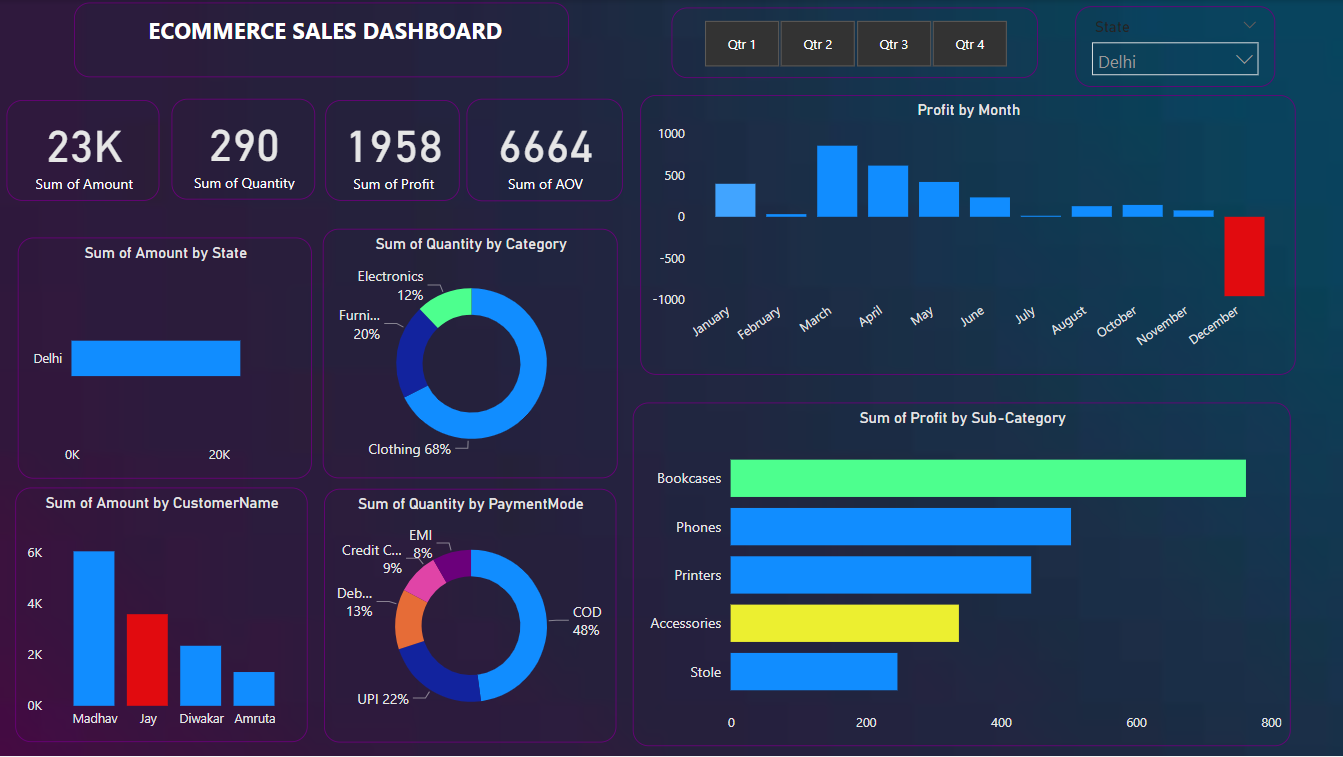

The dashboard page shown, as its layout file describes it:
{"tool":"powerbi","page":{"name":"Page 1","canvas":[1280,720],"ordinal":0},"visuals":[{"type":"textbox","box":[71.6,2.7,471.3,71.6],"z":0},{"type":"columnChart","title":"Profit by Month","fields":{"Category":["Orders.Order Date.Variation.Date Hierarchy.Month"],"Y":["Details.Profit"]},"box":[610.4,89.9,623.9,266],"z":1000},{"type":"barChart","fields":{"Category":["Details.Sub-Category"],"Y":["Details.Profit"]},"box":[603.7,382.7,626.6,326.8],"z":2000},{"type":"donutChart","fields":{"Category":["Details.Category"],"Y":["Details.Quantity"]},"box":[308.7,218.2,280.9,237.7],"z":3000},{"type":"donutChart","fields":{"Y":["Details.Quantity"],"Category":["Details.PaymentMode"]},"box":[309.8,465.4,278.2,241.7],"z":4000},{"type":"card","fields":{"Values":["Details.Amount"]},"box":[7.3,95.1,145.9,95.9],"z":5000},{"type":"card","fields":{"Values":["Details.Quantity"]},"box":[163.7,94,136.4,95.9],"z":6000},{"type":"card","fields":{"Values":["Details.AOV"]},"box":[444.6,93.5,148.6,97.2],"z":7000},{"type":"card","fields":{"Values":["Details.Profit"]},"box":[310.9,94.8,128.3,95.9],"z":8000},{"type":"barChart","fields":{"Category":["Orders.State"],"Y":["Details.Amount"]},"box":[17.6,225.5,280.4,229.3],"z":9000},{"type":"columnChart","fields":{"Category":["Orders.CustomerName"],"Y":["Details.Amount"]},"box":[16,464,278,242],"z":10000},{"type":"slicer","fields":{"Values":["Orders.State"]},"box":[1025,5.4,190.4,77],"z":11000},{"type":"slicer","fields":{"Values":["Orders.Order Date.Variation.Date Hierarchy.Quarter"]},"box":[640.3,7.1,348.9,67.6],"z":12000}]}

Visuals, with their boxes in screenshot pixels (x1, y1, x2, y2), scaled from the page's 1280x720 canvas onto the 1343x757 screenshot:
textbox: x1=75, y1=3, x2=570, y2=78
"Profit by Month" columnChart: x1=640, y1=95, x2=1295, y2=374
barChart - Details.Sub-Category x Details.Profit: x1=633, y1=402, x2=1291, y2=746
donutChart - Details.Category x Details.Quantity: x1=324, y1=229, x2=619, y2=479
donutChart - Details.Quantity x Details.PaymentMode: x1=325, y1=489, x2=617, y2=743
card - Details.Amount: x1=8, y1=100, x2=161, y2=201
card - Details.Quantity: x1=172, y1=99, x2=315, y2=200
card - Details.AOV: x1=466, y1=98, x2=622, y2=200
card - Details.Profit: x1=326, y1=100, x2=461, y2=200
barChart - Orders.State x Details.Amount: x1=18, y1=237, x2=313, y2=478
columnChart - Orders.CustomerName x Details.Amount: x1=17, y1=488, x2=308, y2=742
slicer - Orders.State: x1=1075, y1=6, x2=1275, y2=87
slicer - Orders.Order Date.Variation.Date Hierarchy.Quarter: x1=672, y1=7, x2=1038, y2=79
